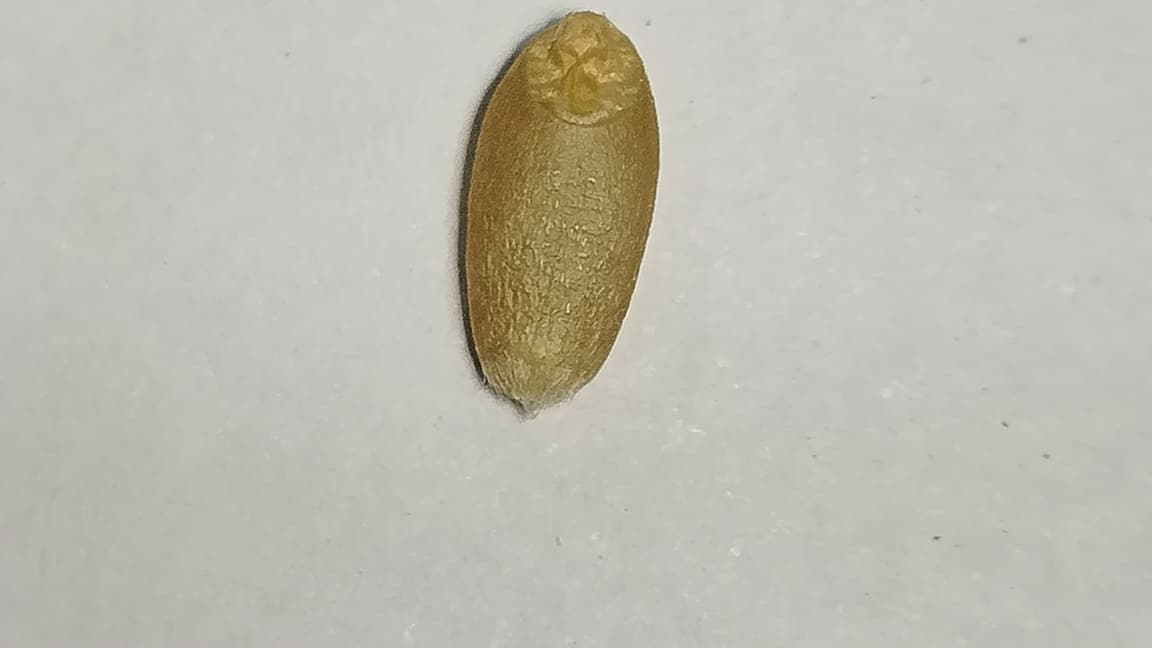healthy: (457, 10, 660, 413)
